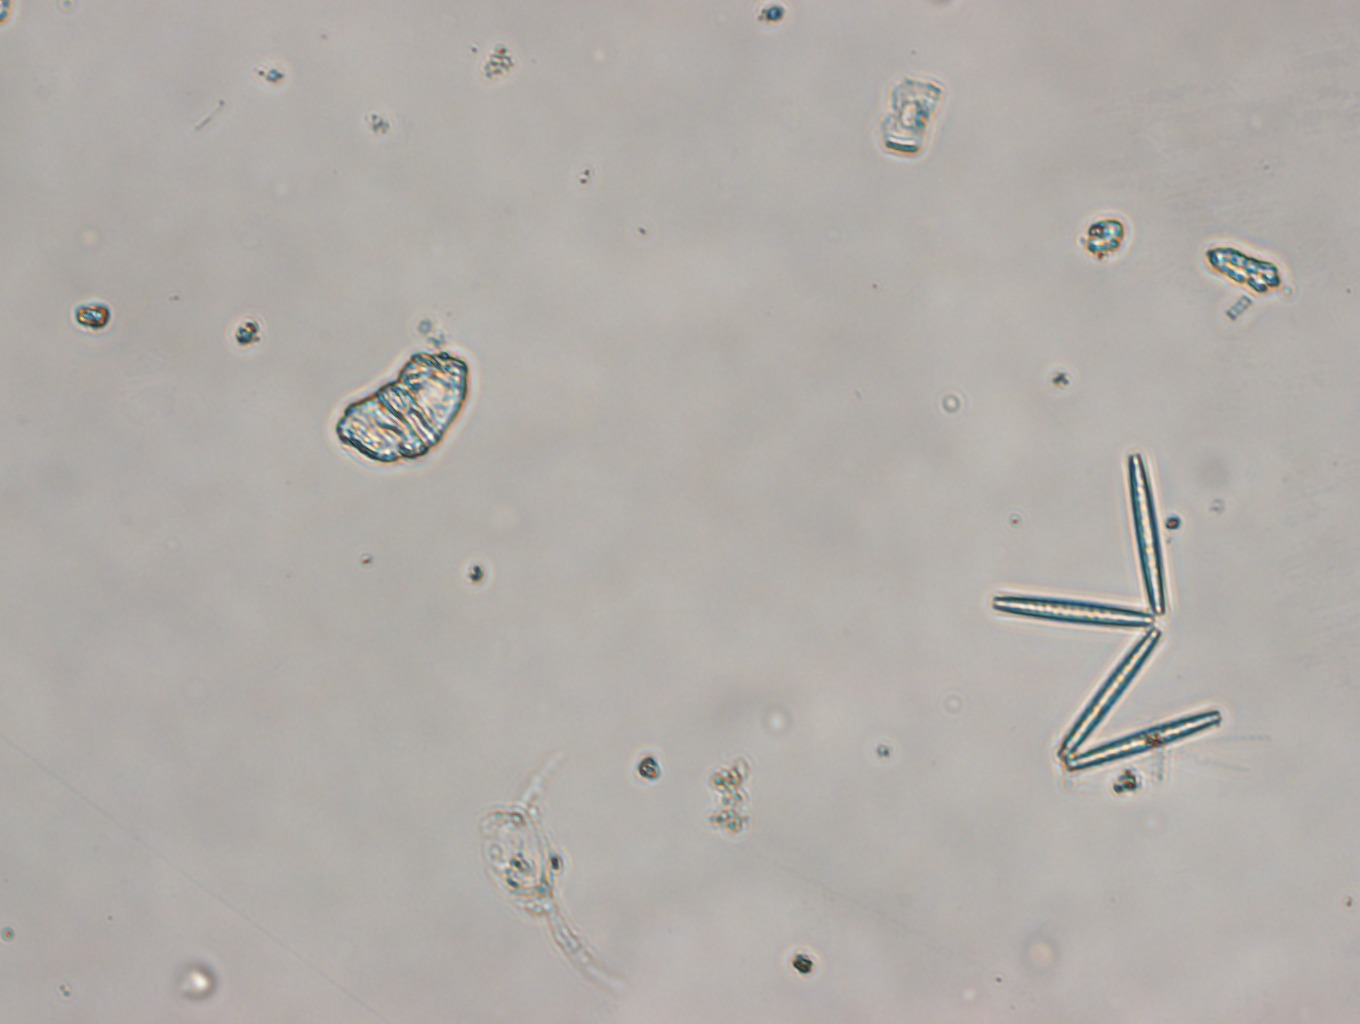thalassionema nitzschioides: (991, 442, 1226, 791)
